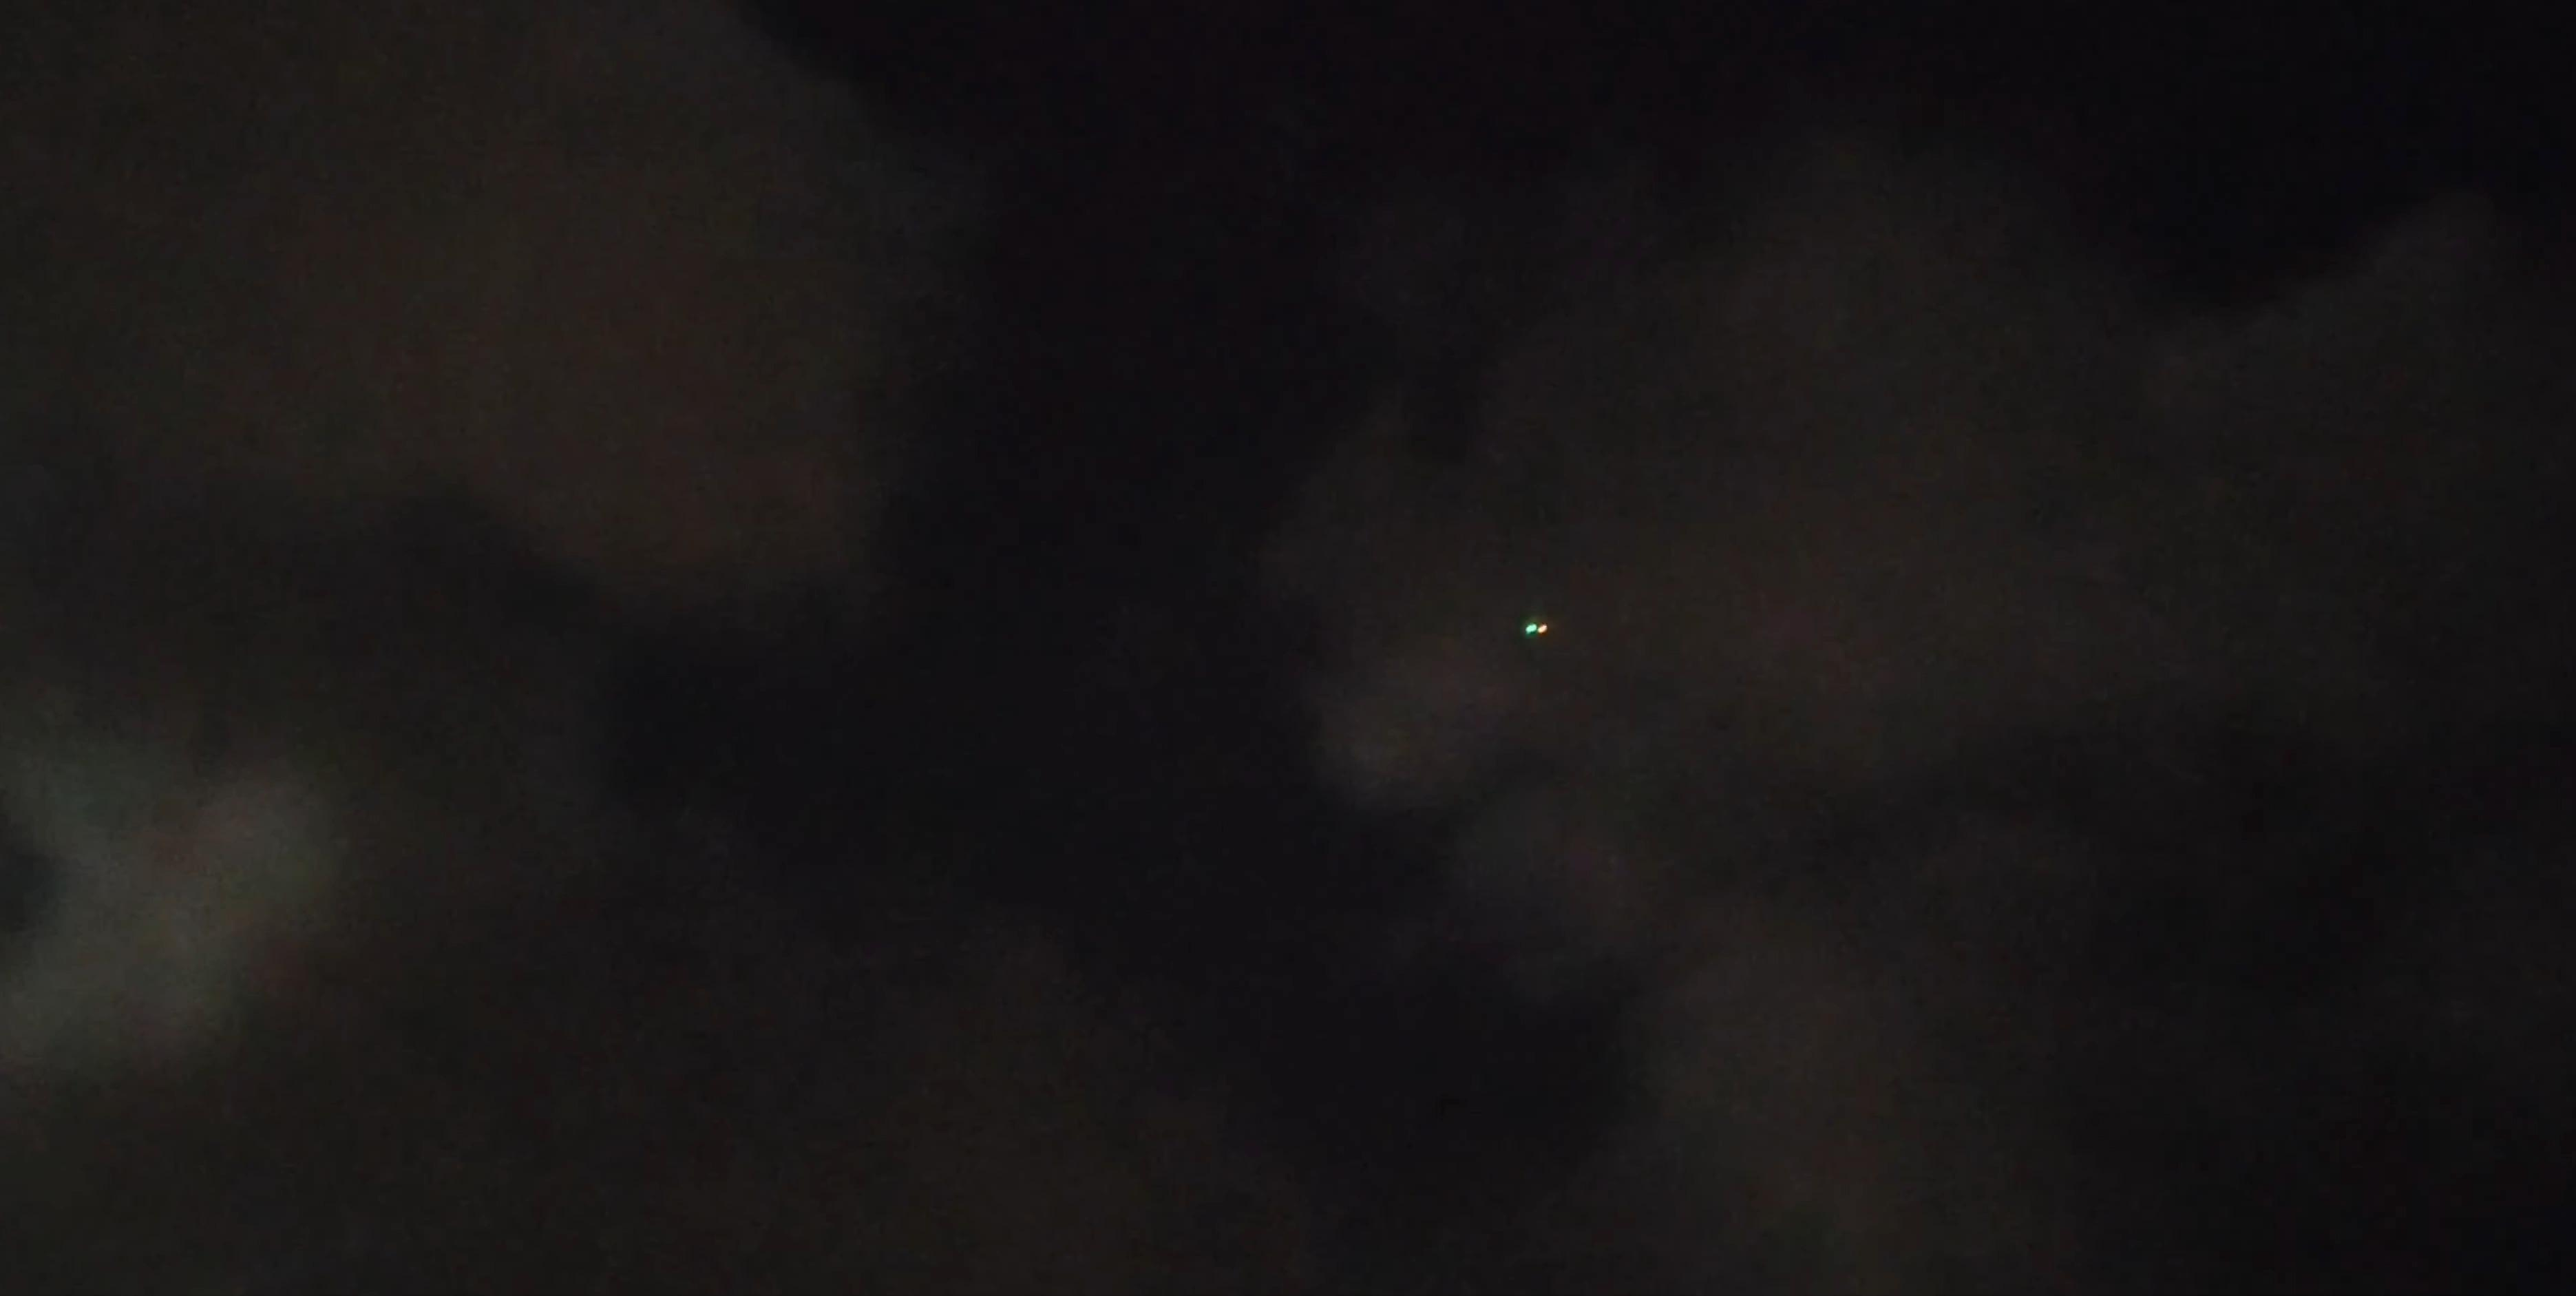Plane: (1520, 610, 1555, 645)
